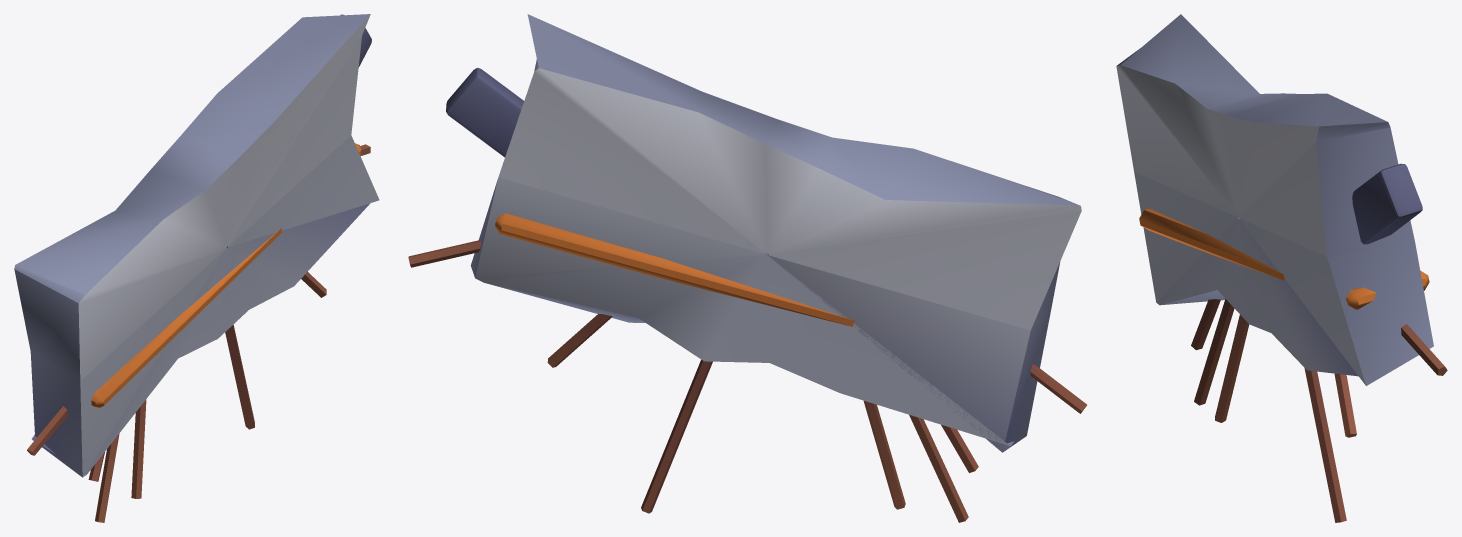
Rendered from hub_ruin_debris_c.glb.
3 views of the same model, side by side, from view 1: azimuth 30°, elevation 25°; view 2: azimuth 150°, elevation 25°; view 3: azimuth 270°, elevation 25° (orthographic). The views are drawn at different scales.
Parts seen in each view (by area): view 1: hub_ruin_debris_c; view 2: hub_ruin_debris_c; view 3: hub_ruin_debris_c.
Boxes of the visible parts, x1,y1,x2,y2 form: hub_ruin_debris_c: (14, 14, 379, 522); hub_ruin_debris_c: (408, 14, 1086, 522); hub_ruin_debris_c: (1116, 14, 1447, 522).
Bounding box in the file's own units: 3.55 × 2.86 × 1.86.
